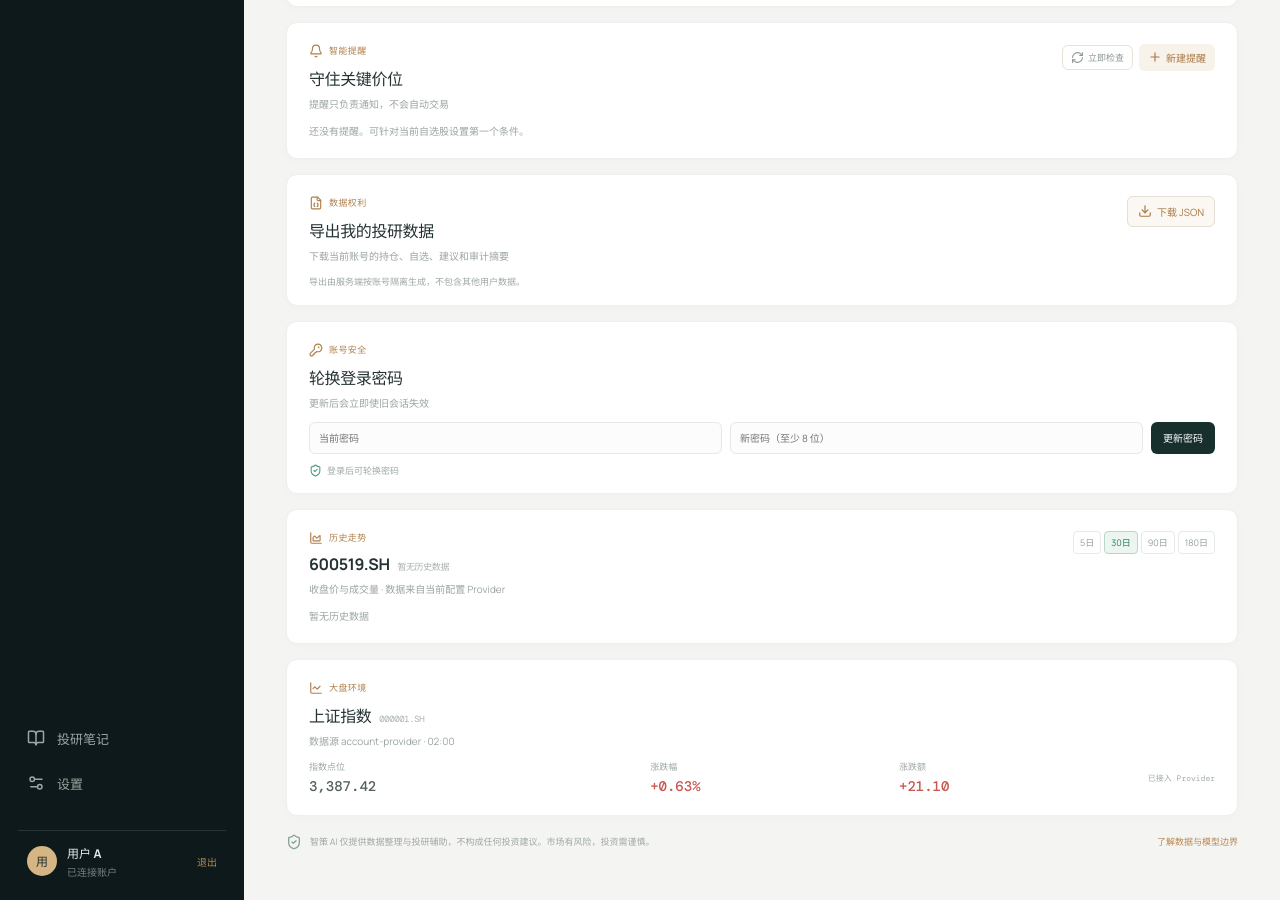
Test: 工作台会话隔离 › 退出后清除上一账号的建议和自选标的
(page scrolled)
Click the button "退出" at (207, 861), box [197, 850, 217, 873]
(page scrolled)
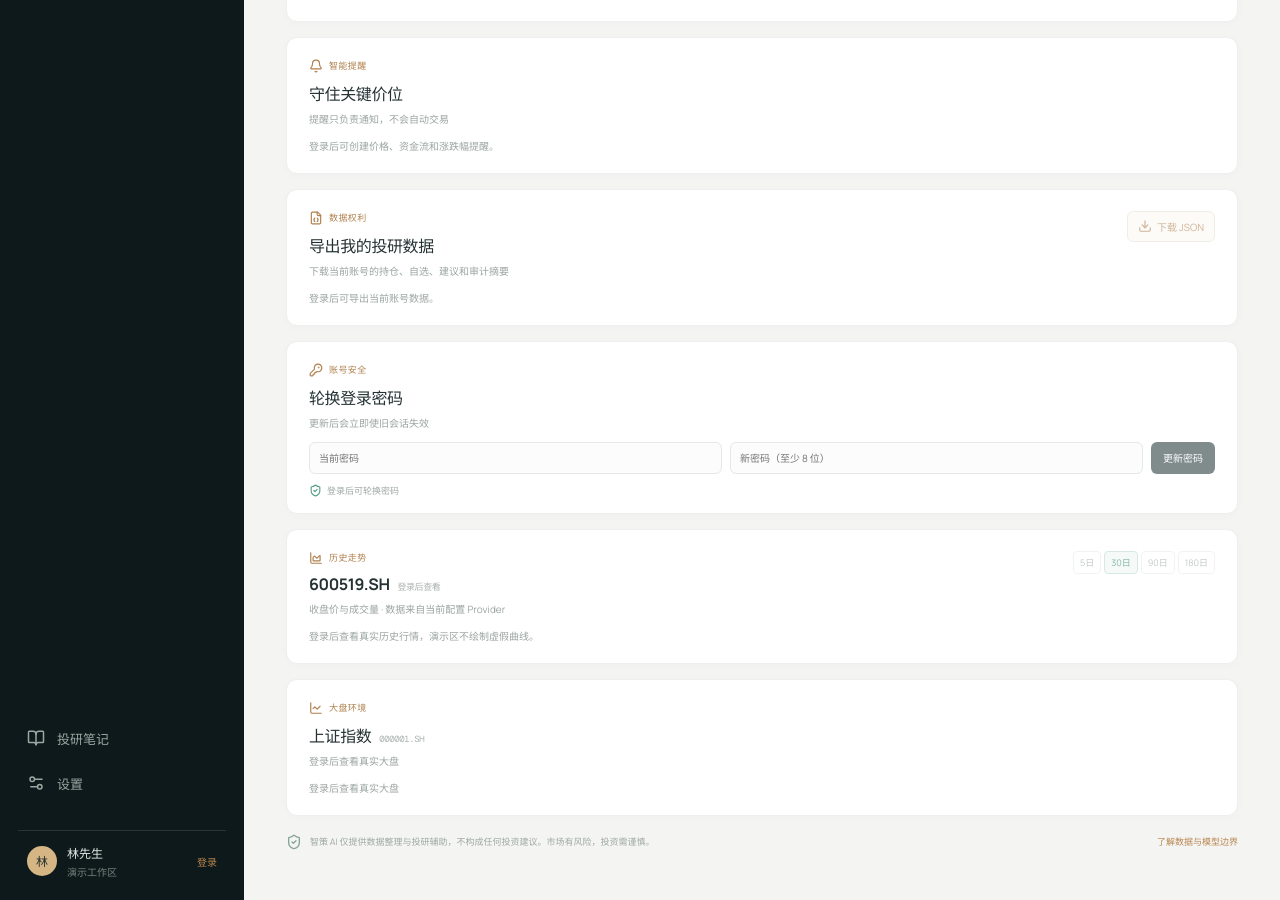
Expected: the text "演示工作区" is shown, [67, 864, 117, 879]
